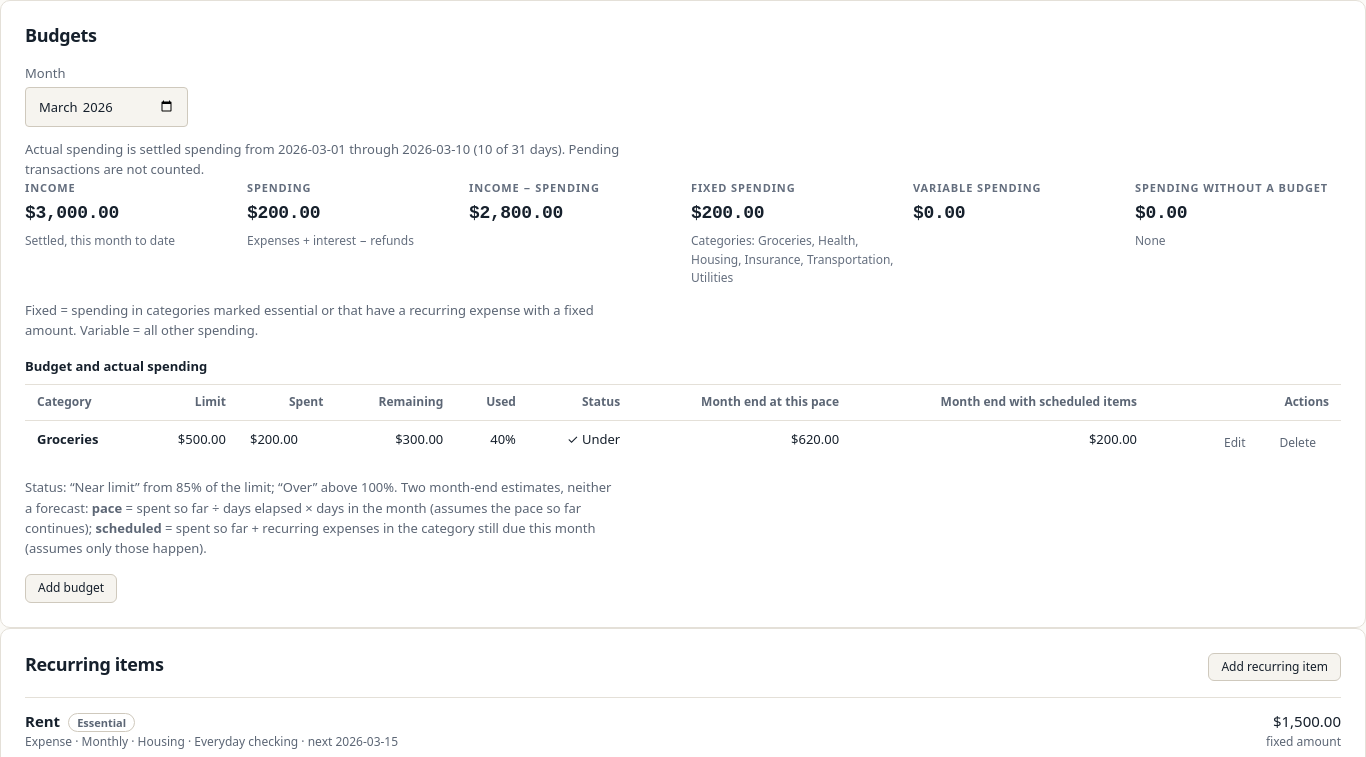
Test case: BudgetsView › adds a budget through the form
The width and height of the screenshot is (1366, 757).
Click the button "Add budget".
click(71, 588)  # box [25, 574, 117, 603]
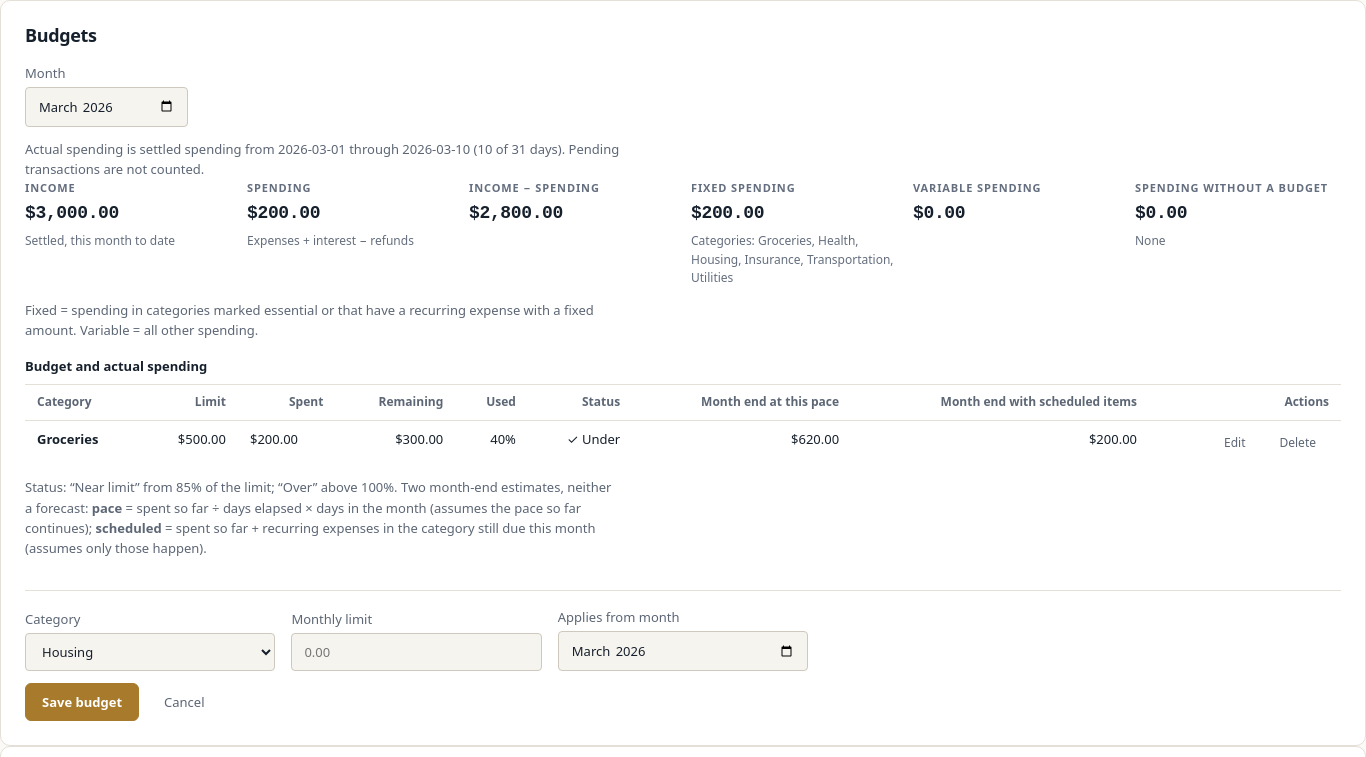
Select "Dining" in the dropdown labelled "Category" at (150, 652), box [25, 633, 275, 671]
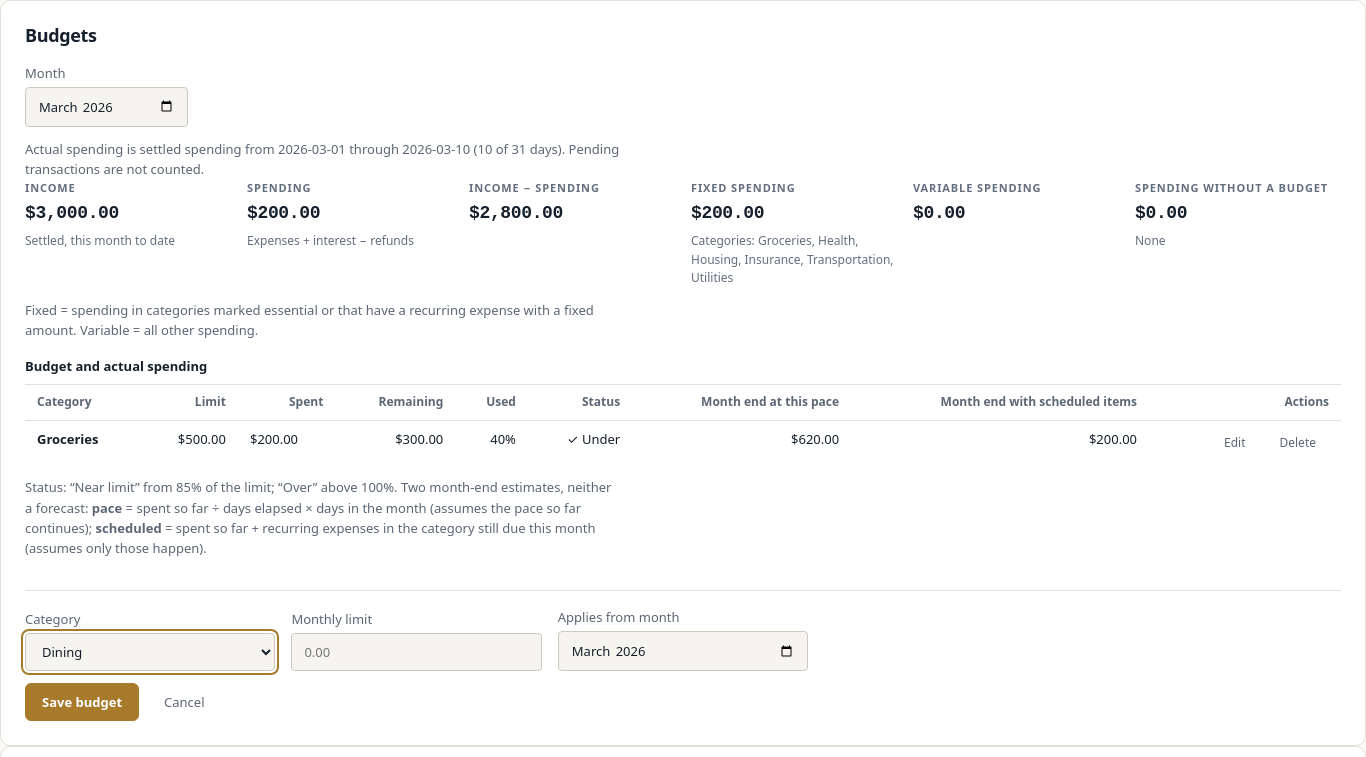
Type "250" into the field labelled "Monthly limit".
click(417, 652); type("250")  # box [291, 633, 542, 671]
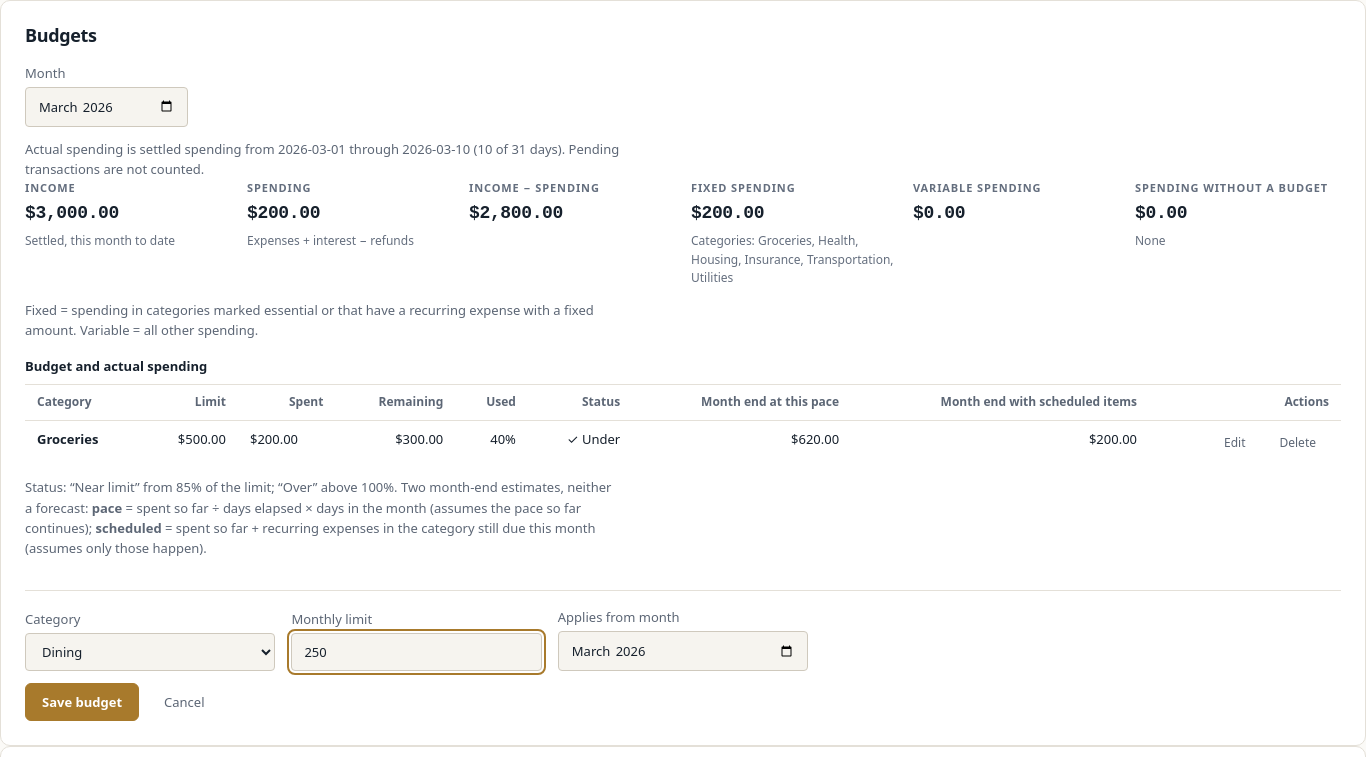
Click the button "Save budget".
click(82, 702)  # box [25, 683, 139, 721]
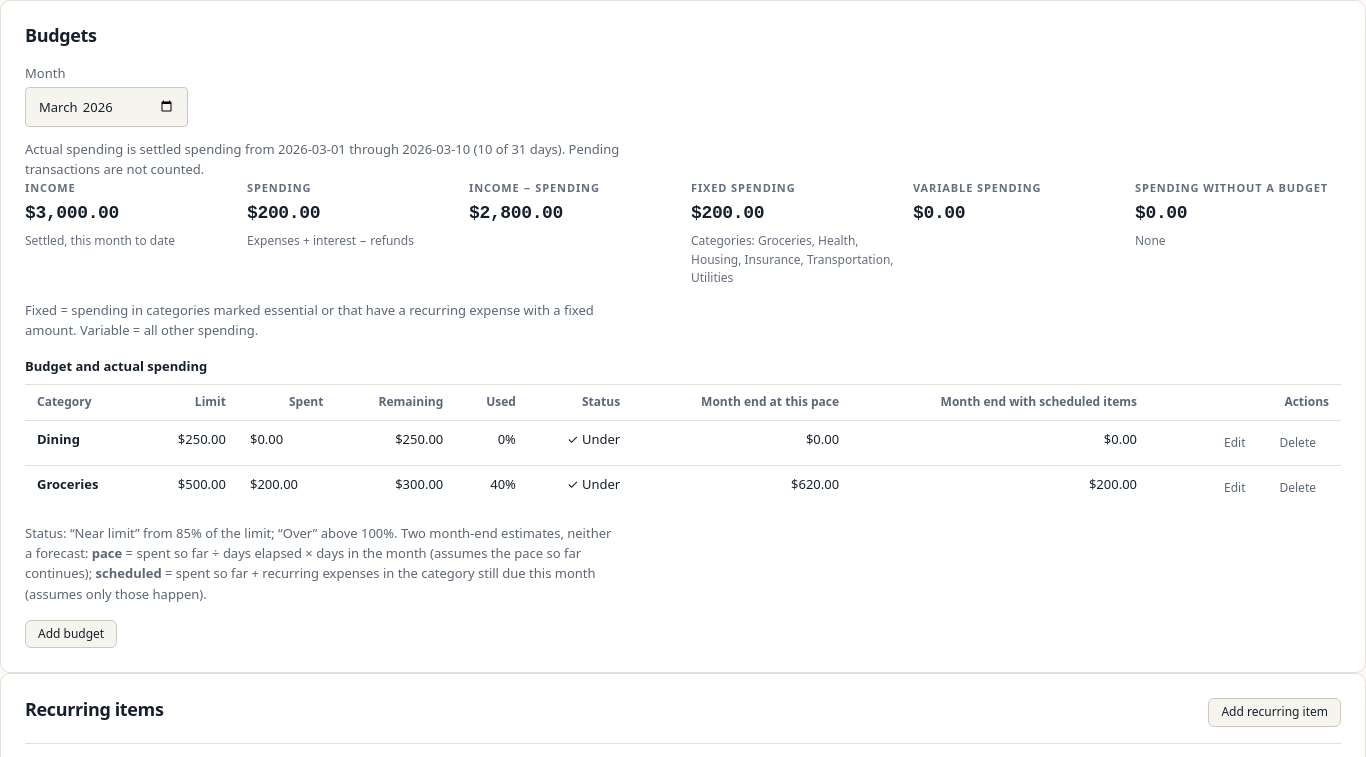
Result: the row "Dining" shows "$250.00" at [178, 430, 226, 448]
